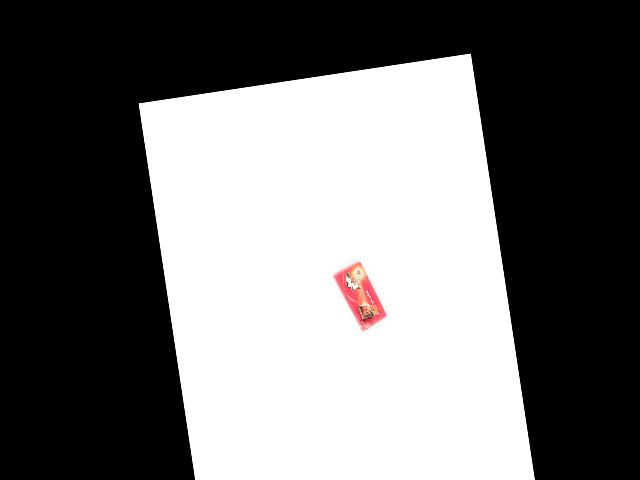chocolate: (331, 259, 390, 335)
